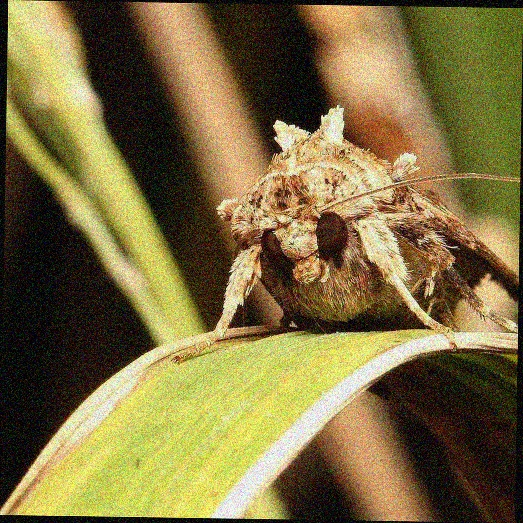Spodoptera litura: (173, 104, 520, 367)
